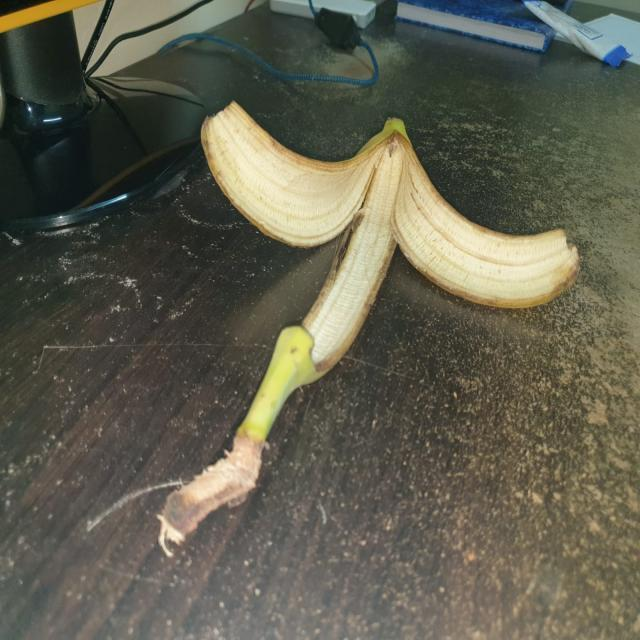banana-peel: (153, 96, 587, 560)
